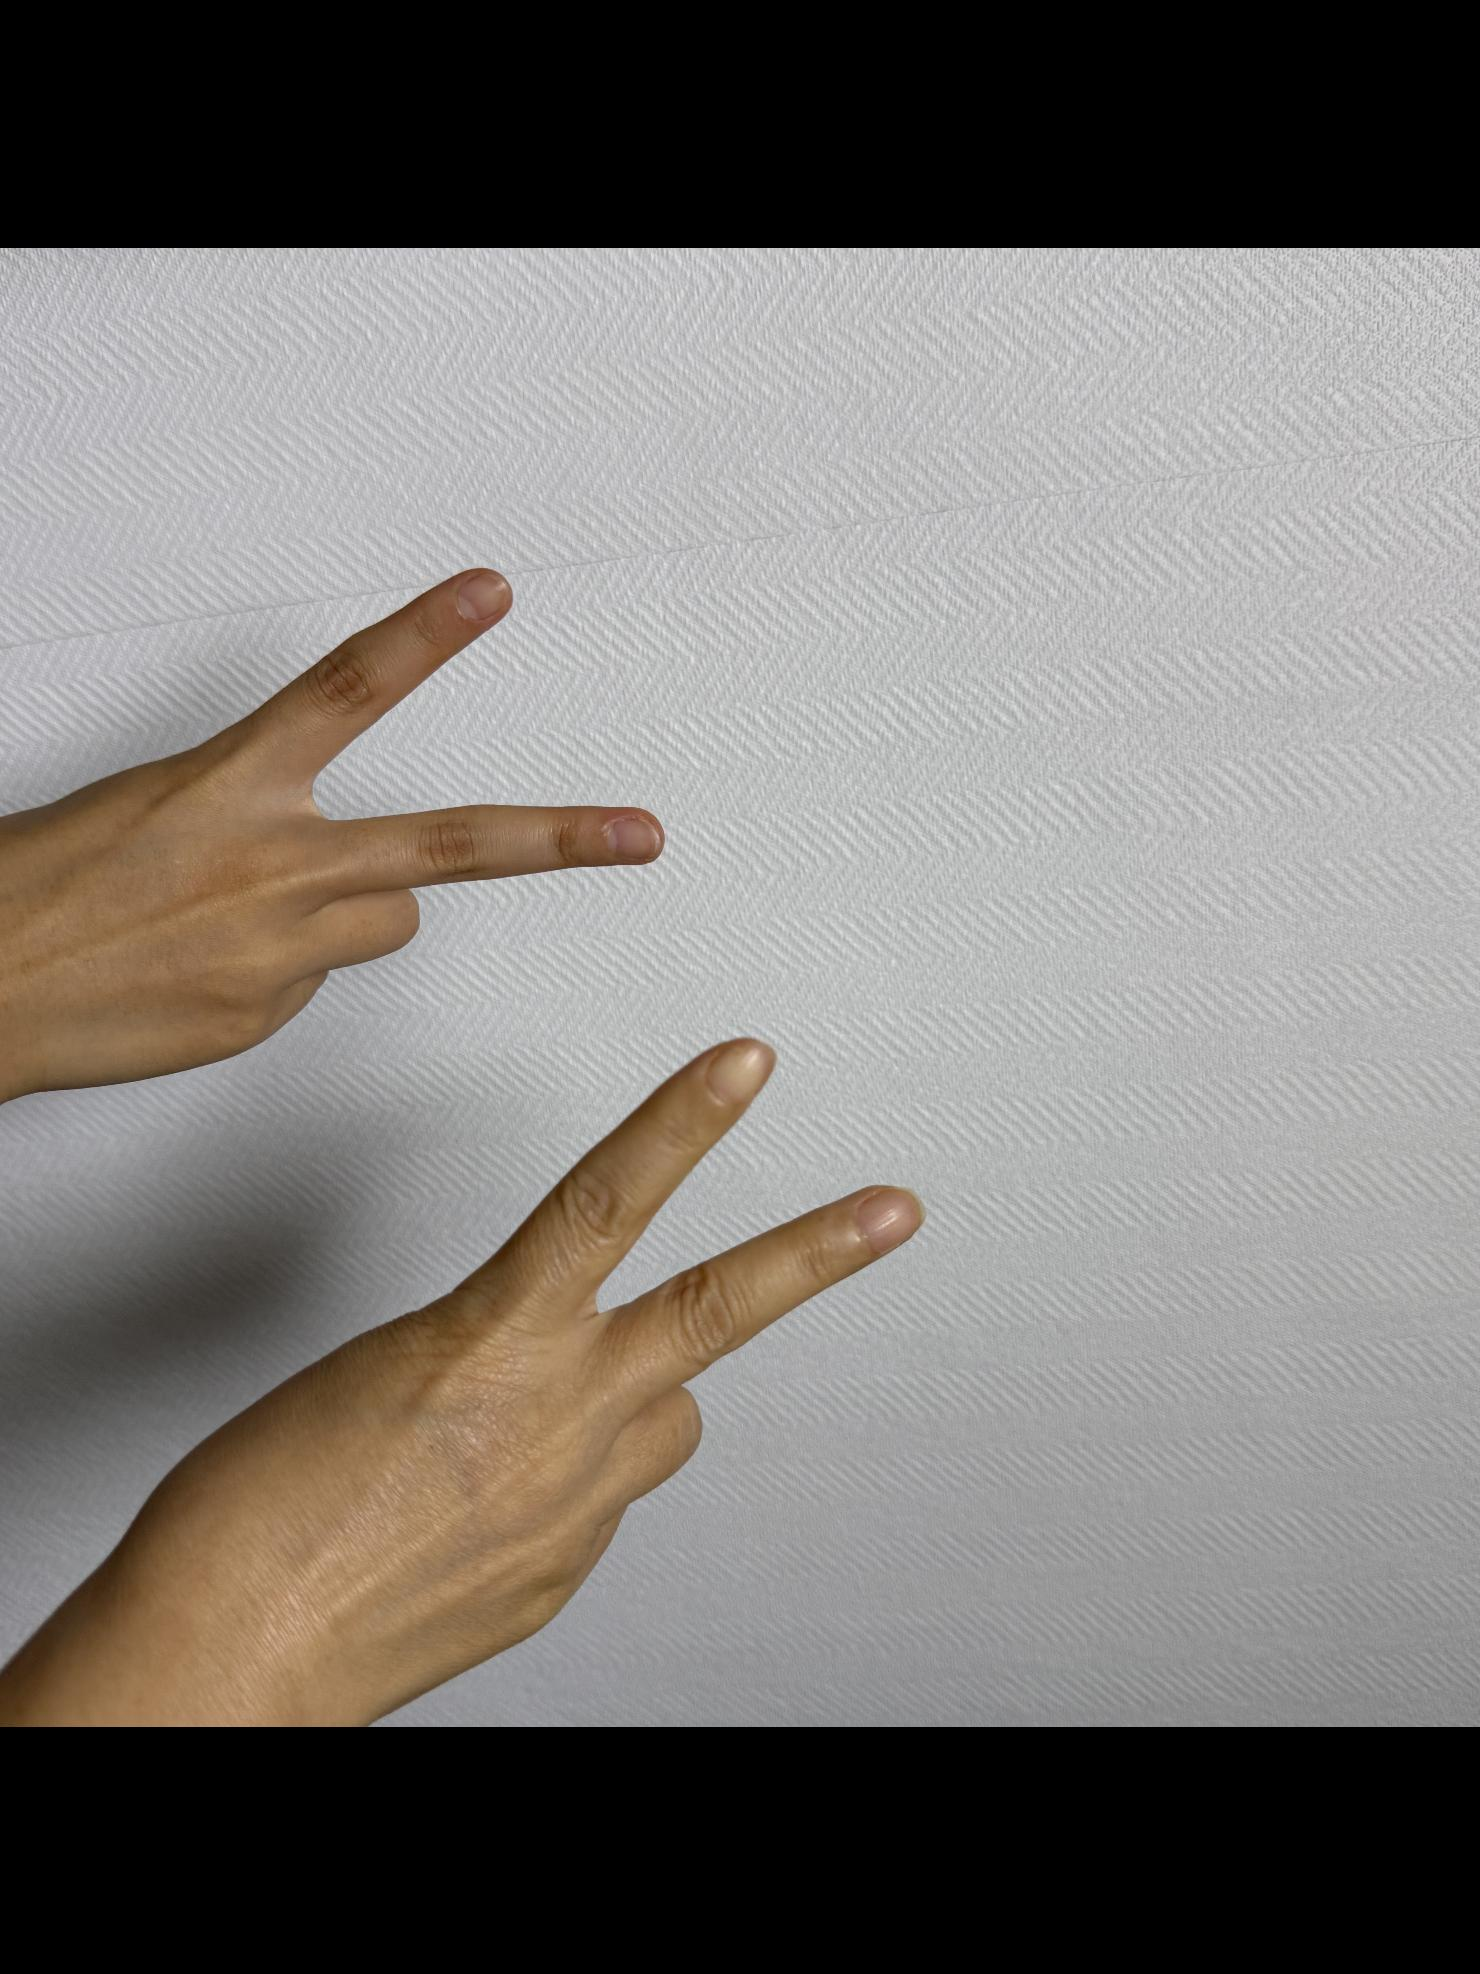v: (0, 1023, 930, 1727), (0, 561, 695, 1085)
